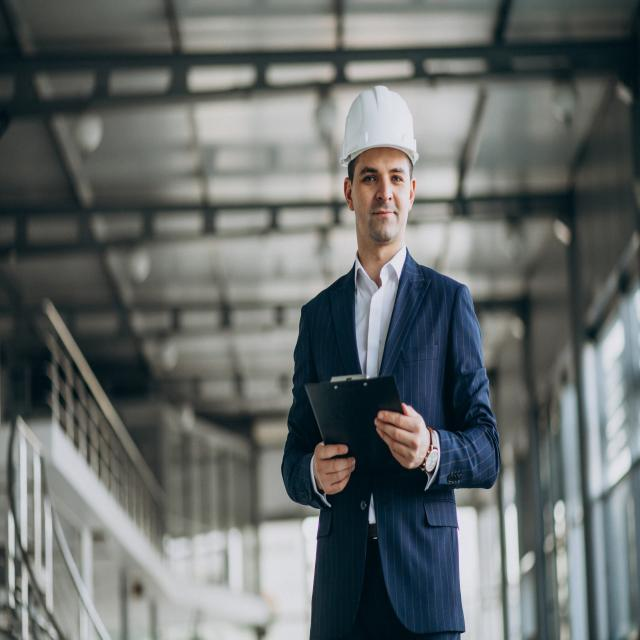helmet: (336, 78, 436, 182)
